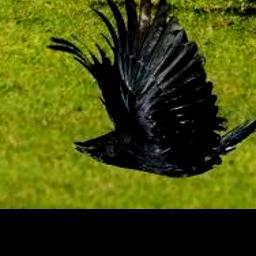Crow: (46, 0, 256, 178)
